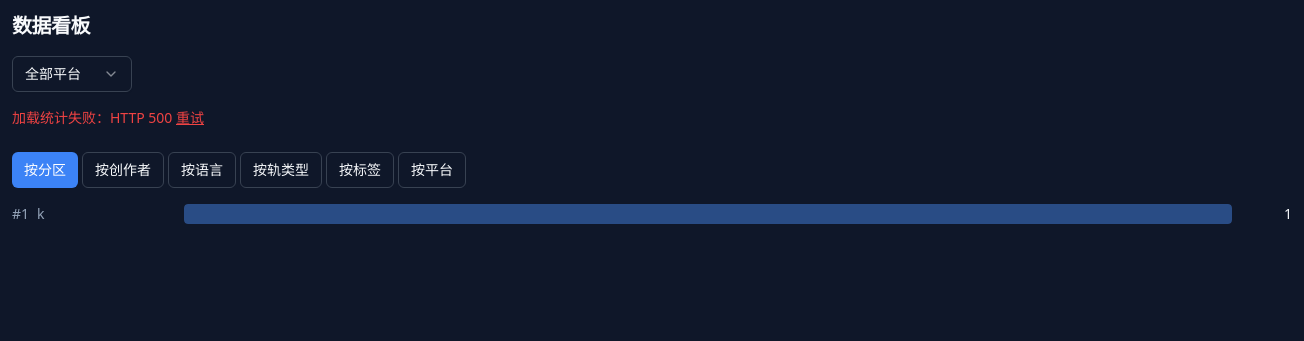
Test: overview 失败：错误 + 重试恢复
Expected: the text "加载统计失败：HTTP 500 重试" is shown, [12, 108, 204, 128]
Click the button "重试" at (190, 118), box [176, 108, 204, 128]
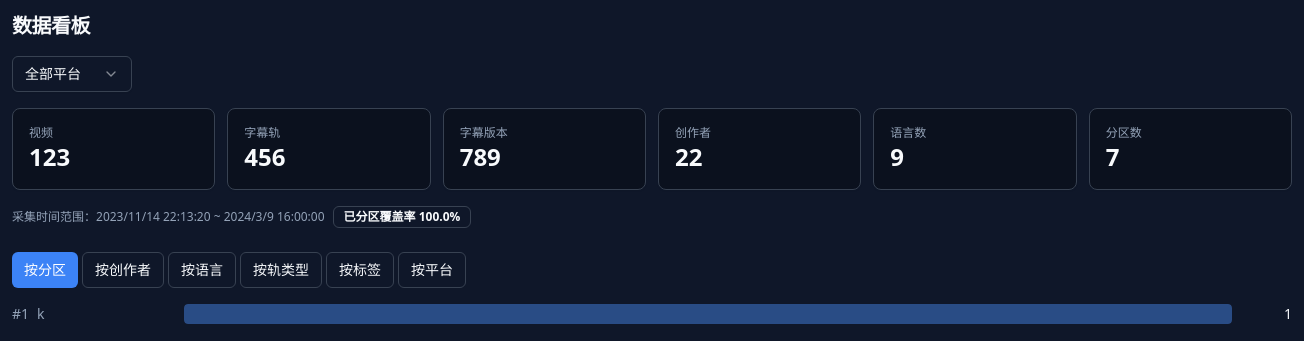
Expected: the text "123" is shown, [29, 140, 70, 173]
